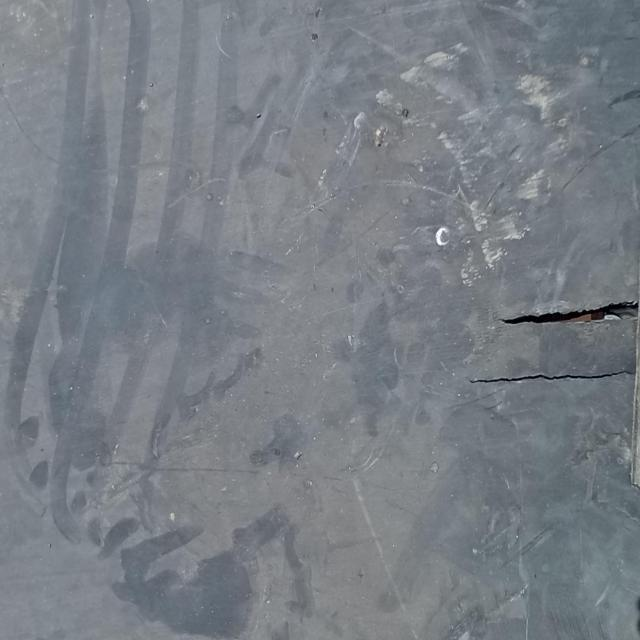Tear: (496, 294, 638, 338), (461, 364, 640, 392)
